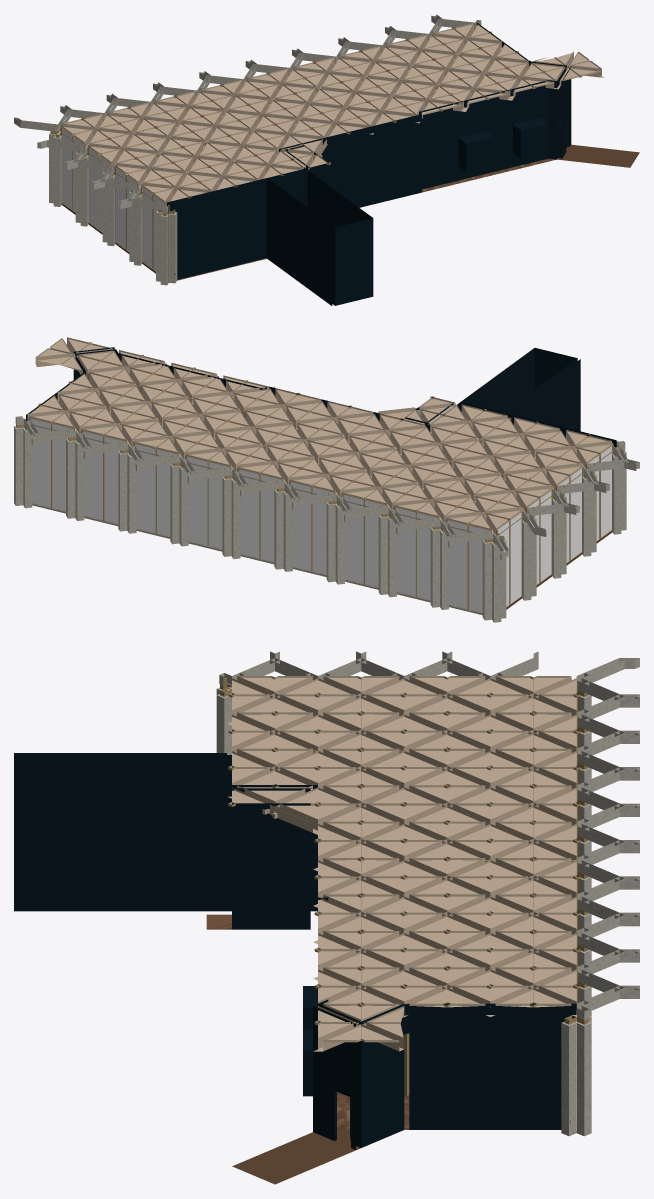
The model's file is Chancery Rosewood_Pavilion_BAKE_V4.glb.
3 renders of one model, top to bottom at view 1: azimuth 30°, elevation 25°; view 2: azimuth 150°, elevation 25°; view 3: azimuth 270°, elevation 25°, orthographic. The views are drawn at different scales.
Parts seen in each view (by area): view 1: WEST PAVILLION_LOW; view 2: WEST PAVILLION_LOW; view 3: WEST PAVILLION_LOW.
Part boxes in pixels (<box>): WEST PAVILLION_LOW: <box>14,14,639,305</box>; WEST PAVILLION_LOW: <box>14,337,639,622</box>; WEST PAVILLION_LOW: <box>14,651,639,1184</box>.
Size of the model in its own units: 38.2 by 5.51 by 24.7.
Materials: 13 (3 with a texture image).
